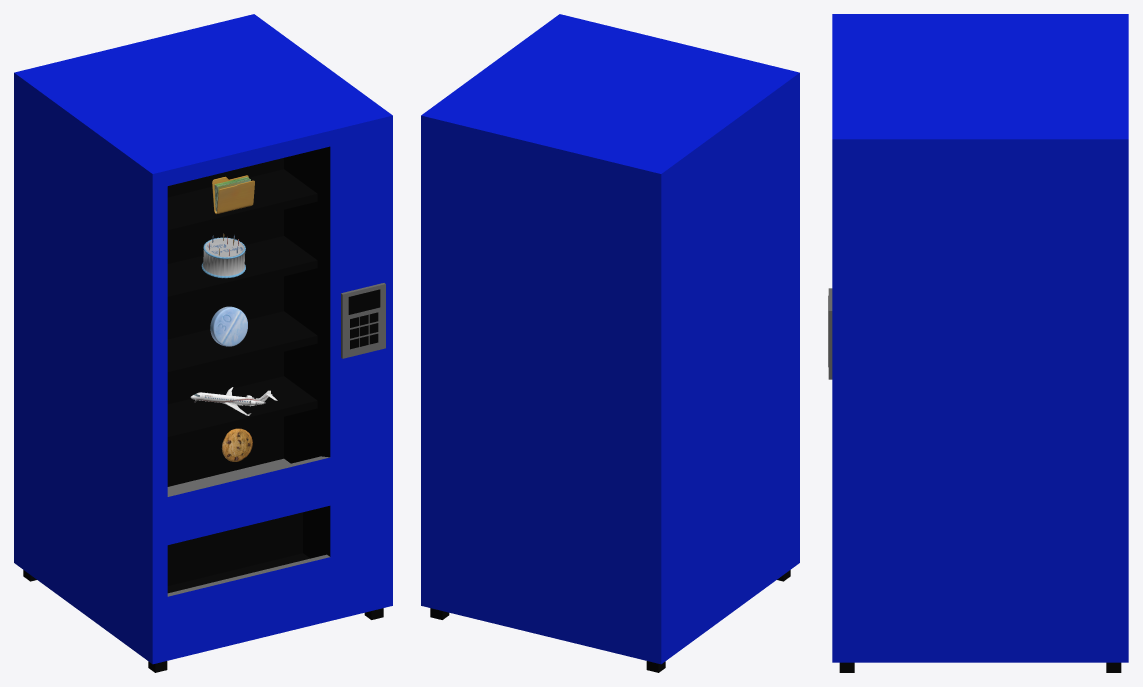
Rendered from ncookies.glb.
The picture shows the model from 3 angles, left to right: view 1: azimuth 30°, elevation 25°; view 2: azimuth 150°, elevation 25°; view 3: azimuth 270°, elevation 25°; orthographic projection. The views are drawn at different scales.
Visible parts, largest first — view 1: vendingobjcleanermaterialmergergles, Cylinder002, file, Pillobjcleanermaterialmergergles, CRJ-900objcleanermaterialmergergles, pCylinder15; view 2: vendingobjcleanermaterialmergergles; view 3: vendingobjcleanermaterialmergergles.
Boxes of the visible parts, x1=… form: vendingobjcleanermaterialmergergles: x1=14, y1=14, x2=392, y2=672; Cylinder002: x1=201, y1=233, x2=245, y2=278; file: x1=212, y1=175, x2=254, y2=213; Pillobjcleanermaterialmergergles: x1=210, y1=306, x2=247, y2=346; CRJ-900objcleanermaterialmergergles: x1=190, y1=387, x2=277, y2=415; pCylinder15: x1=222, y1=428, x2=252, y2=461; vendingobjcleanermaterialmergergles: x1=421, y1=14, x2=799, y2=672; vendingobjcleanermaterialmergergles: x1=828, y1=14, x2=1128, y2=672.
Bounding box in the file's own units: 4 × 8 × 4.06.
Materials: 9 (5 with a texture image).
